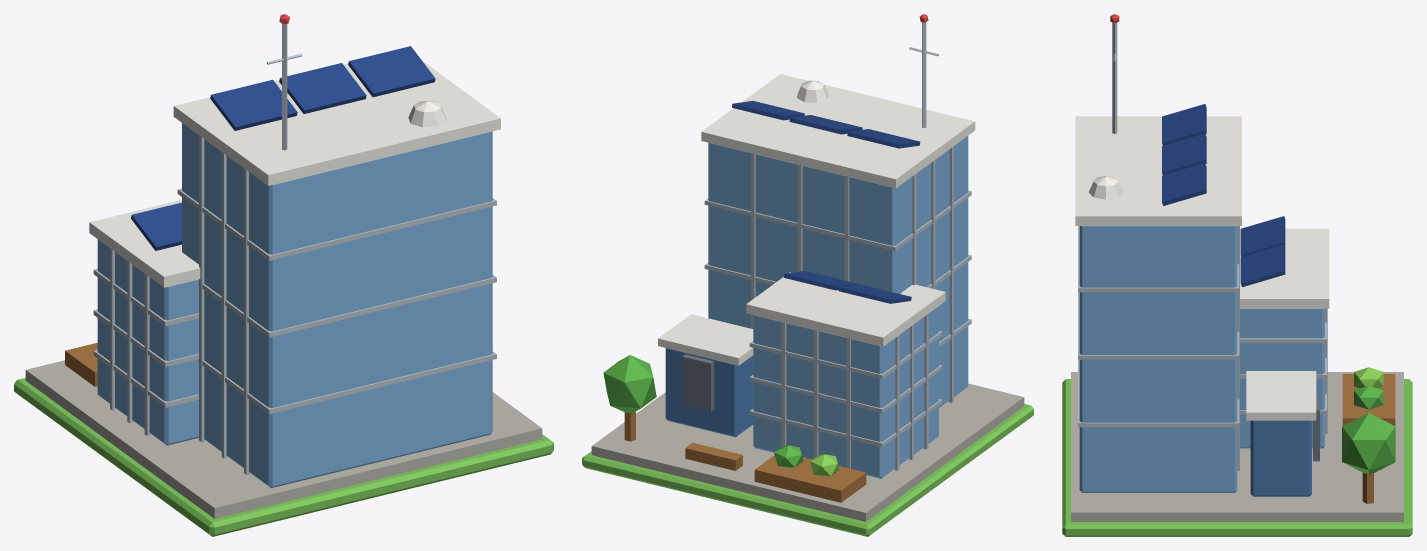
The model's file is centro_tecnologia.glb.
3 renders of one model, left to right at view 1: azimuth 30°, elevation 25°; view 2: azimuth 150°, elevation 25°; view 3: azimuth 270°, elevation 25°, orthographic. The views are drawn at different scales.
Parts seen in each view (by area): view 1: corpo; view 2: corpo; view 3: corpo.
Part boxes in pixels (x1=…): corpo: x1=14, y1=14, x2=553, y2=536; corpo: x1=582, y1=14, x2=1033, y2=536; corpo: x1=1062, y1=14, x2=1412, y2=536.
Size of the model in its own units: 2 by 2.65 by 2.
